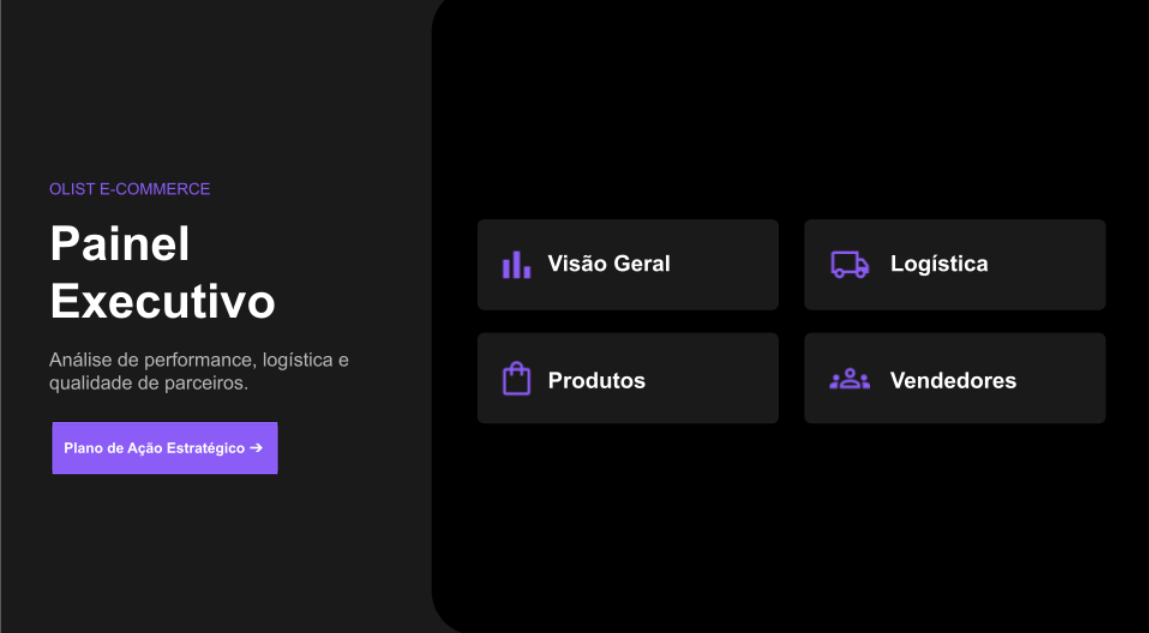

Layout of this report page (visuals, bound fields, positions):
{"tool":"powerbi","page":{"name":"Home","canvas":[1280,720],"ordinal":0},"visuals":[{"type":"actionButton","box":[58,470,250,58],"z":0},{"type":"actionButton","box":[530,244.3,337.1,100],"z":1000},{"type":"actionButton","box":[892.9,244.3,337.1,100],"z":2000},{"type":"actionButton","box":[530,370,337.1,100],"z":3000},{"type":"actionButton","box":[892.9,370,337.1,100],"z":4000}]}

Visuals, with their boxes in screenshot pixels (x1, y1, x2, y2), scaled from the page's 1280x720 canvas onto the 1149x633 screenshot:
actionButton: (52, 413, 276, 464)
actionButton: (476, 215, 778, 303)
actionButton: (802, 215, 1104, 303)
actionButton: (476, 325, 778, 413)
actionButton: (802, 325, 1104, 413)
